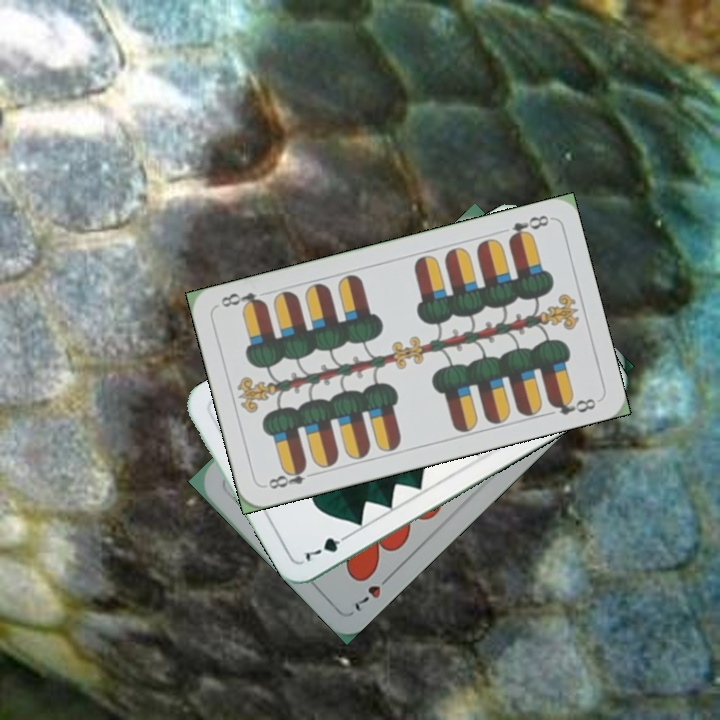E8: (261, 461, 320, 492), (504, 211, 552, 244)
G7: (299, 529, 354, 564)
H7: (350, 569, 395, 615)
